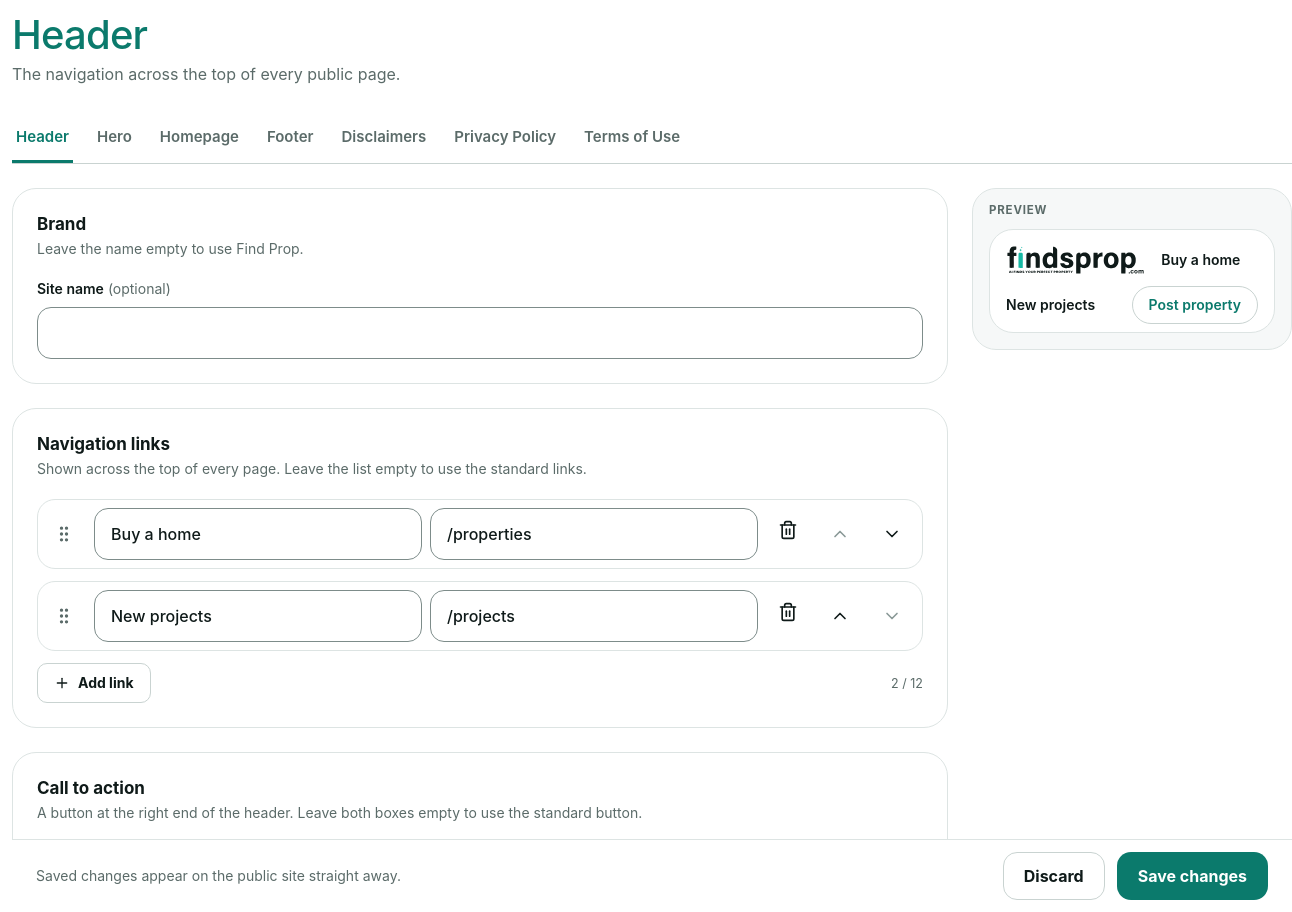
Test: UT-header-form: the Header page (S7-T10) › puts the boxes back to what was loaded when Discard is pressed
Type "Kadal Homes" into the field labelled "Site name(optional)". click: (480, 333)
box: [37,307,923,359]
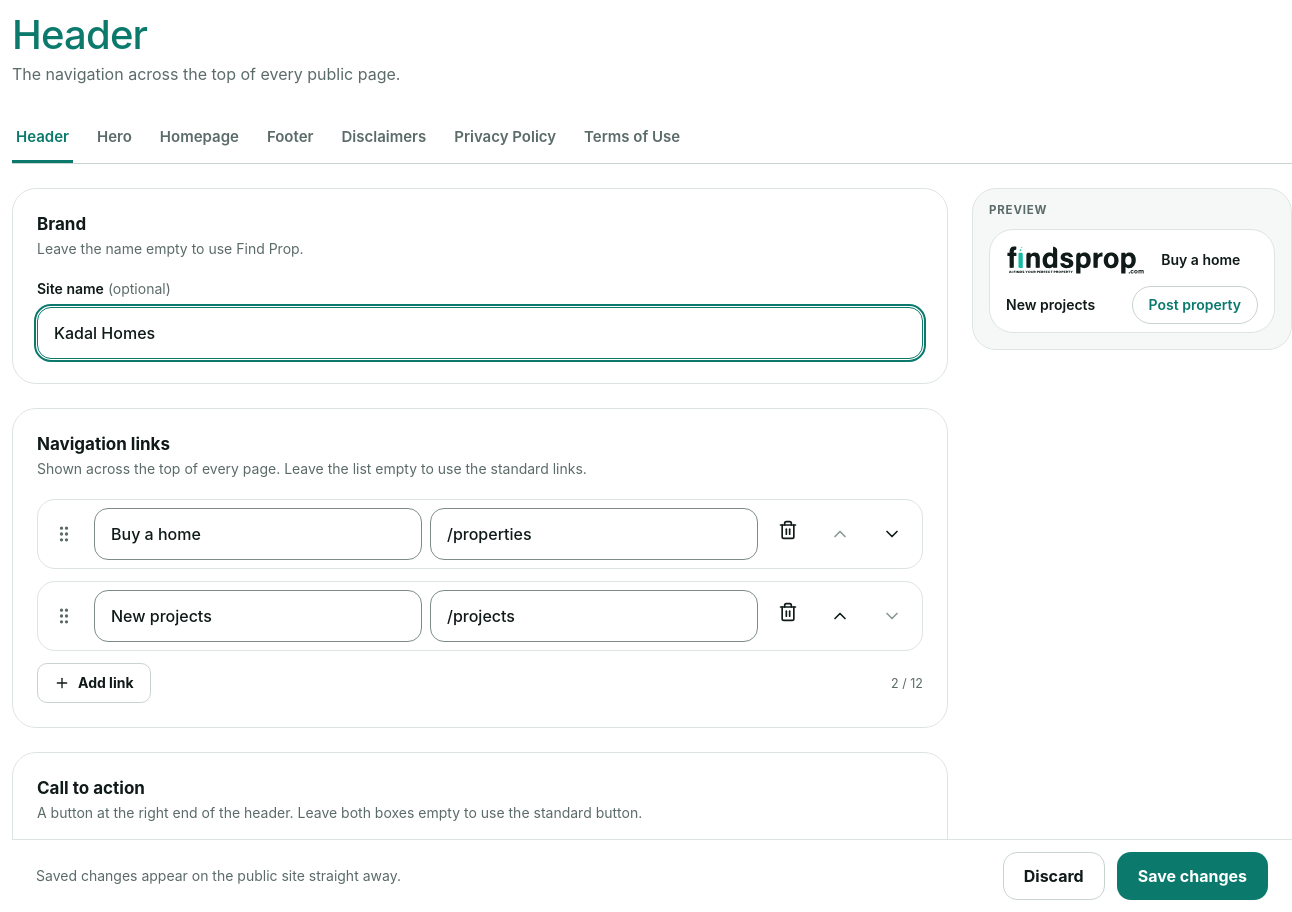
Click the button named "Remove: Buy a home". click: (788, 530)
box: [766,508,810,552]
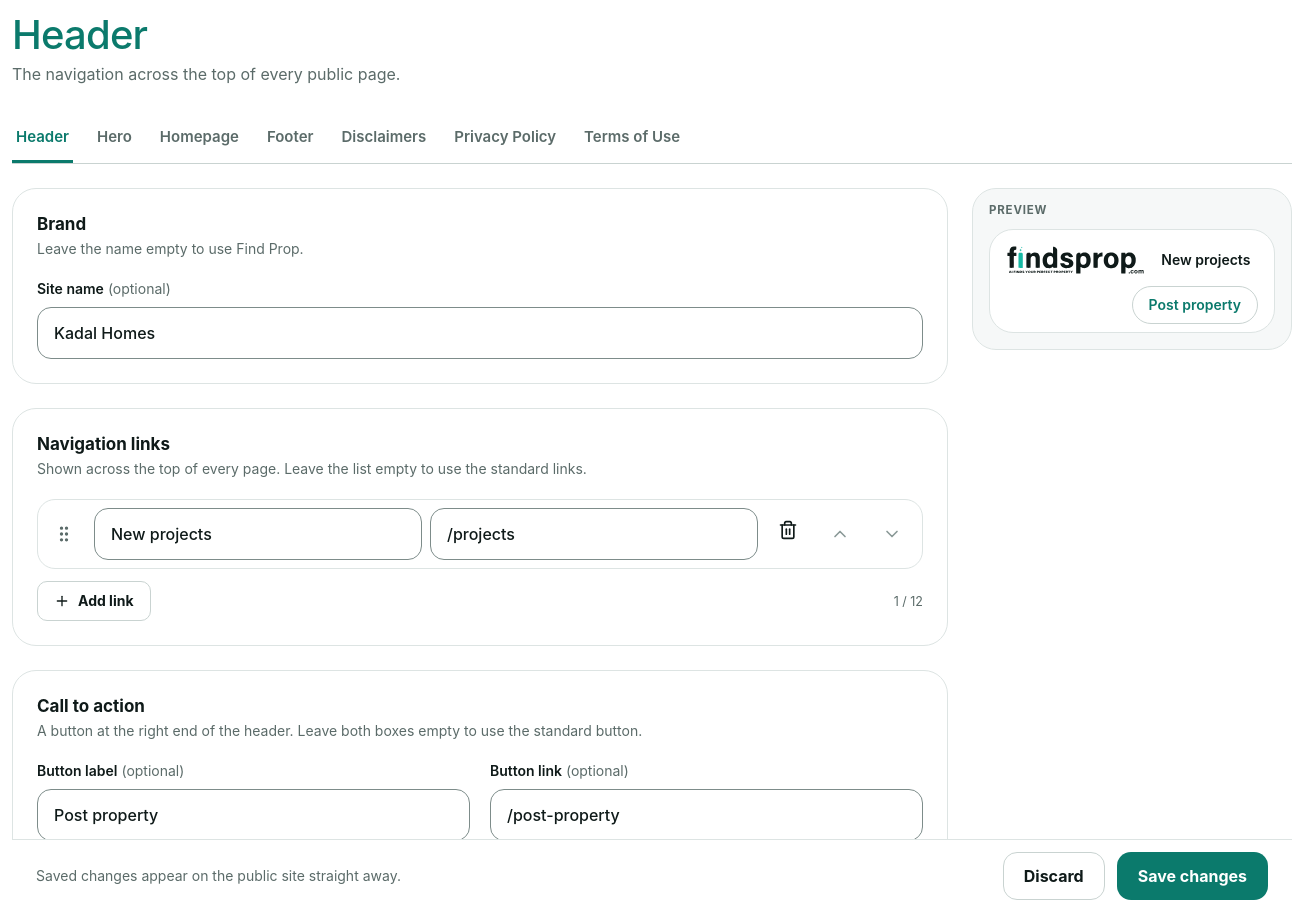
Click the button "Discard". click: (1054, 876)
box: [1003,852,1105,900]
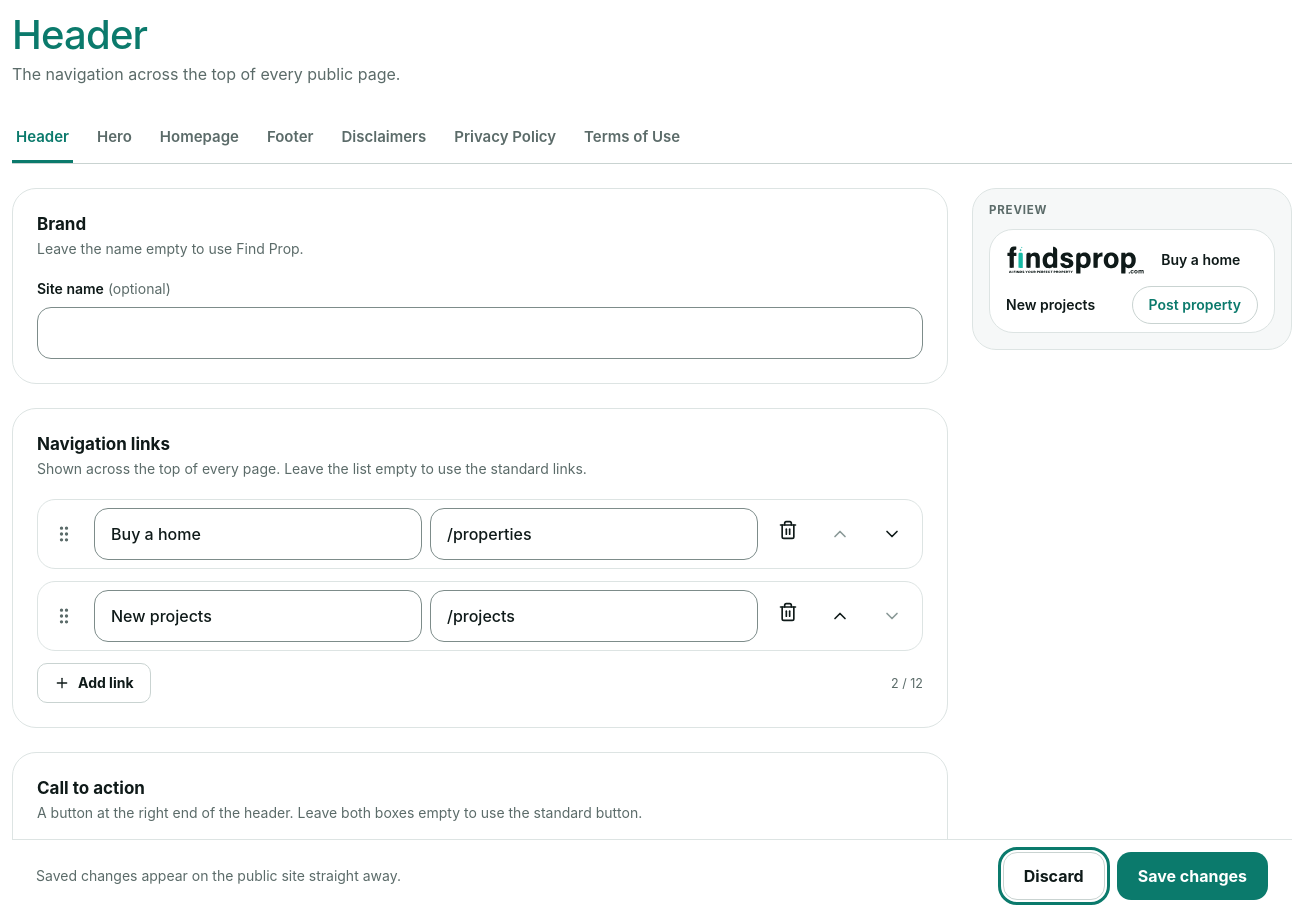
Expected: the field labelled "Site name(optional)" is empty, [37,307,923,359]
Expected: the field named "Label 1" holds "Buy a home", [94,508,422,560]
